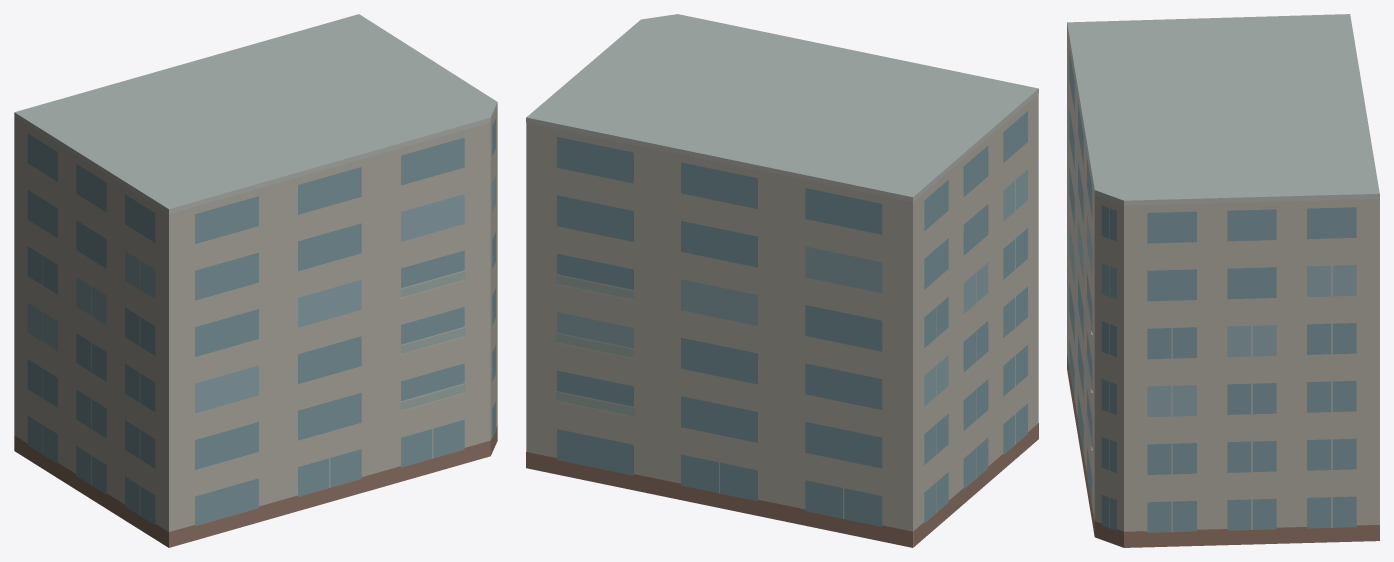
Rendered from survey-upis-32705519.glb.
The picture shows the model from 3 angles, left to right: view 1: azimuth 30°, elevation 25°; view 2: azimuth 150°, elevation 25°; view 3: azimuth 270°, elevation 25°; orthographic projection. The views are drawn at different scales.
Parts seen in each view (by area): view 1: survey-upis-32705519.tmp; view 2: survey-upis-32705519.tmp; view 3: survey-upis-32705519.tmp.
Boxes of the visible parts, x1,y1,x2,y2 form: survey-upis-32705519.tmp: [14, 14, 497, 547]; survey-upis-32705519.tmp: [526, 14, 1038, 547]; survey-upis-32705519.tmp: [1067, 14, 1379, 547].
Bounding box in the file's own units: 19.44 × 16.85 × 13.76.
